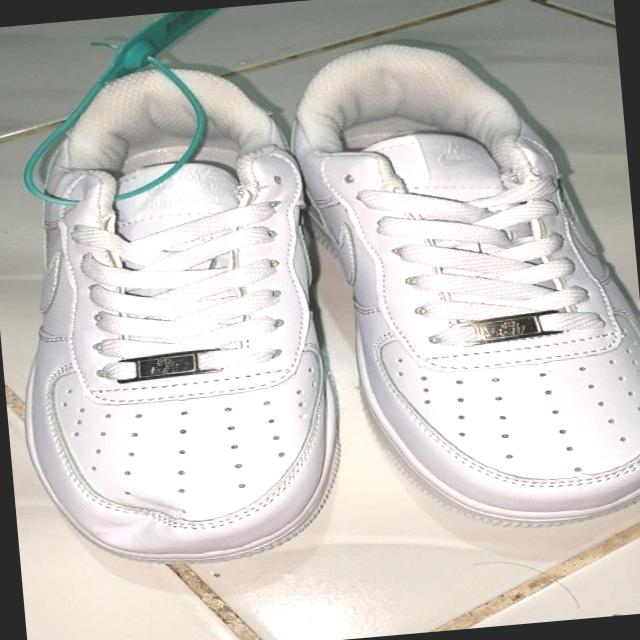nike_fake_airforce: (0, 48, 357, 581), (284, 23, 640, 544)
